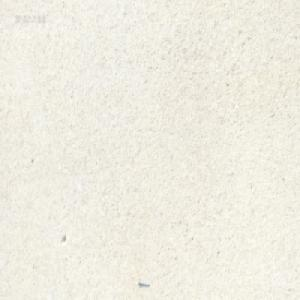Nail: (138, 279, 149, 287)
